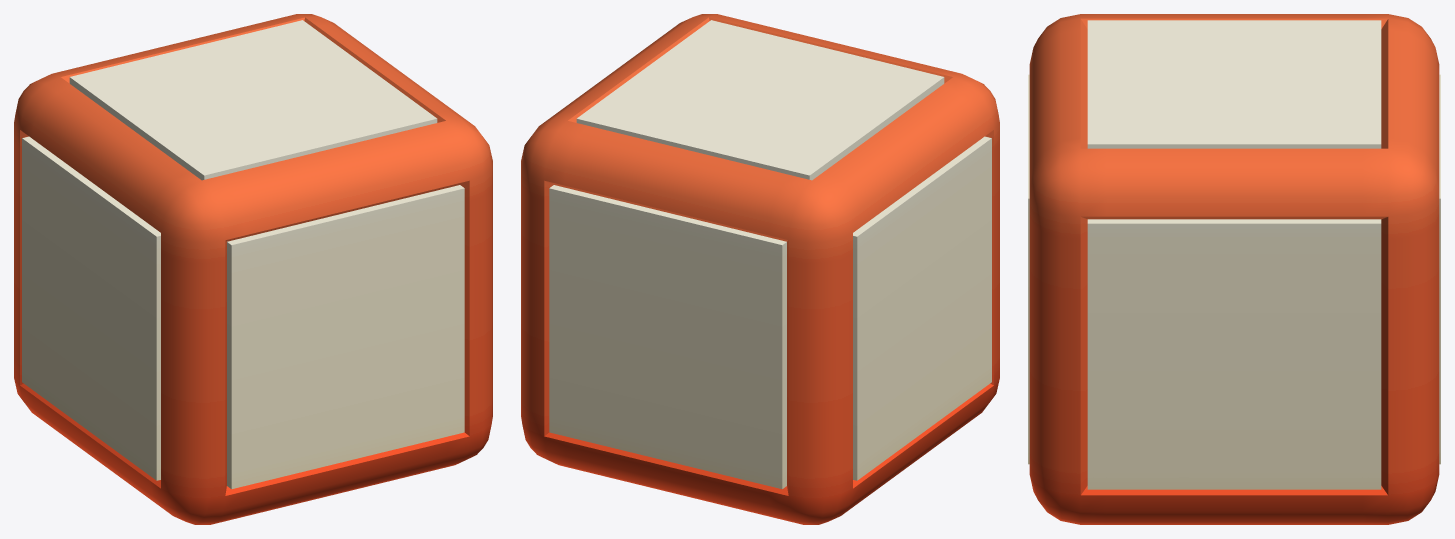
File: sk_futuristic_platform.fbx
The picture shows the model from 3 angles, left to right: view 1: azimuth 30°, elevation 25°; view 2: azimuth 150°, elevation 25°; view 3: azimuth 270°, elevation 25°; orthographic projection. The views are drawn at different scales.
Visible parts, largest first — view 1: Cube.048, Cube.051, Cube.049, Cube.043, Cube.037, Cube.039, Cube.036, Cube.046, Cube.005, Cube.038, Cube, Cube.041 (+7 smaller); view 2: Cube.047, Cube.051, Cube.049, Cube.044, Cube.035, Cube.039, Cube.034, Cube.045, Cube.008, Cube.038, Cube.006, Cube.041 (+7 smaller); view 3: Cube.050, Cube.049, Cube.041, Cube.045, Cube.046, Cube.040, Cube.035, Cube.037, Cube.029, Cube.033, Cube.015, Cube.030 (+3 smaller).
Part boxes in pixels (x1,y1,x2,y2): Cube.048: [246, 207, 449, 469]; Cube.051: [30, 159, 148, 458]; Cube.049: [93, 30, 413, 165]; Cube.043: [148, 246, 246, 476]; Cube.037: [211, 116, 449, 256]; Cube.039: [30, 79, 209, 244]; Cube.036: [232, 420, 449, 519]; Cube.046: [450, 182, 492, 419]; Cube.005: [148, 165, 246, 263]; Cube.038: [30, 373, 160, 506]; Cube: [148, 459, 246, 524]; Cube.041: [297, 25, 461, 116]; Cube.047: [564, 207, 767, 469]; Cube.051: [865, 159, 983, 458]; Cube.049: [600, 30, 920, 165]; Cube.044: [767, 246, 865, 476]; Cube.035: [564, 116, 802, 256]; Cube.039: [804, 79, 983, 244]; Cube.034: [564, 420, 781, 519]; Cube.045: [521, 182, 563, 419]; Cube.008: [767, 165, 865, 263]; Cube.038: [853, 373, 983, 506]; Cube.006: [767, 459, 865, 524]; Cube.041: [552, 25, 716, 116]; Cube.050: [1106, 240, 1362, 472]; Cube.049: [1106, 28, 1362, 136]; Cube.041: [1106, 136, 1362, 239]; Cube.045: [1362, 214, 1440, 472]; Cube.046: [1028, 214, 1106, 472]; Cube.040: [1106, 472, 1362, 524]; Cube.035: [1362, 28, 1440, 190]; Cube.037: [1028, 28, 1106, 190]; Cube.029: [1028, 136, 1106, 239]; Cube.033: [1362, 136, 1440, 239]; Cube.015: [1028, 447, 1106, 524]; Cube.030: [1362, 447, 1440, 524].
Size of the model in its own units: 161 by 161 by 161.
